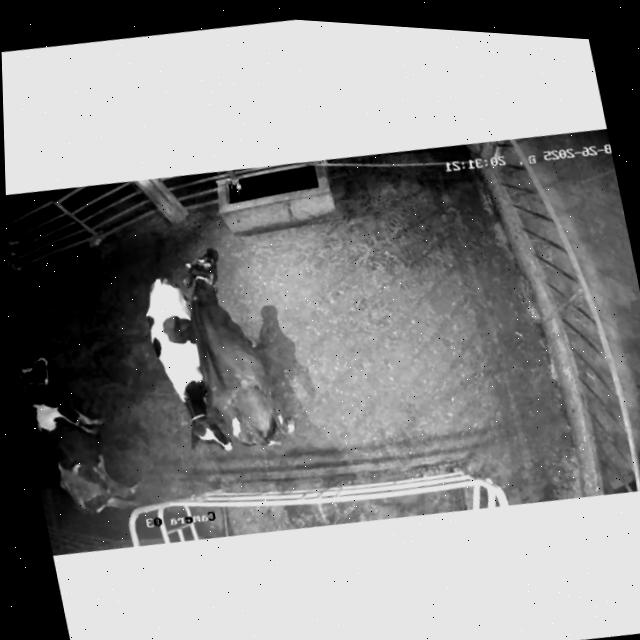stand: (10, 323, 145, 531), (184, 247, 285, 445), (146, 277, 232, 450)
